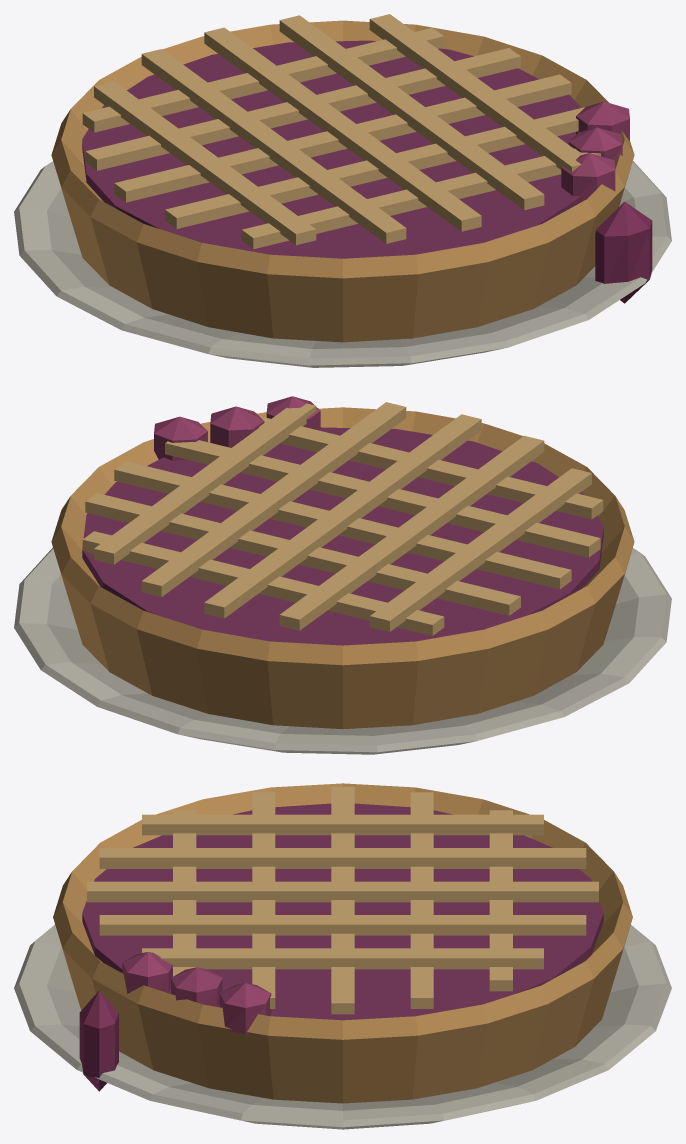
File: pie_berry.glb
3 renders of one model, top to bottom at view 1: azimuth 30°, elevation 25°; view 2: azimuth 150°, elevation 25°; view 3: azimuth 270°, elevation 25°, orthographic.
Visible parts, largest first — view 1: food; view 2: food; view 3: food.
Part boxes in pixels (x1,y1,x2,y2): food: [14, 14, 671, 367]; food: [14, 396, 671, 754]; food: [14, 783, 671, 1129].
Size of the model in its own units: 0.54 by 0.139 by 0.54.
